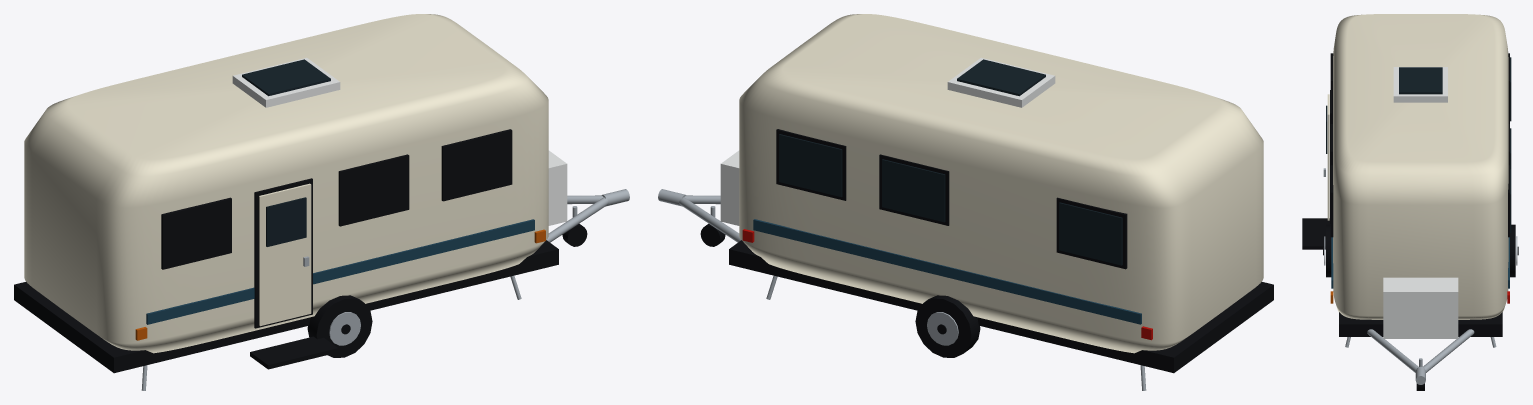
File: Lakokocsi_tura_540.obj
The picture shows the model from 3 angles, left to right: view 1: azimuth 30°, elevation 25°; view 2: azimuth 150°, elevation 25°; view 3: azimuth 270°, elevation 25°; orthographic projection. The views are drawn at different scales.
Size of the model in its own units: 6.83 by 2.77 by 2.77.
